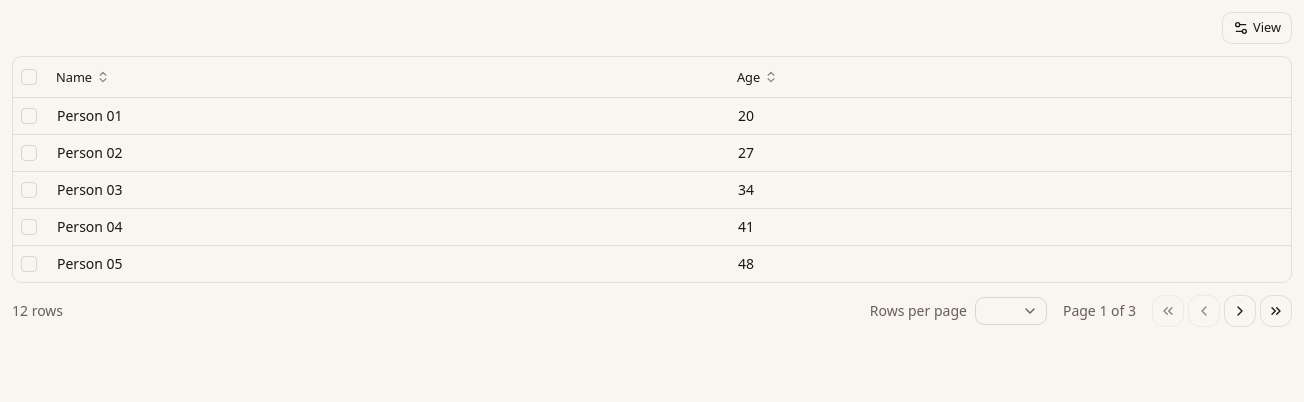
Test: DataTable › shows a bulk actions bar when rows are selected
This screenshot has width=1304, height=402.
Click the checkbox named "Select row" next to "Person 01". click: (29, 116)
box: [21, 108, 37, 124]
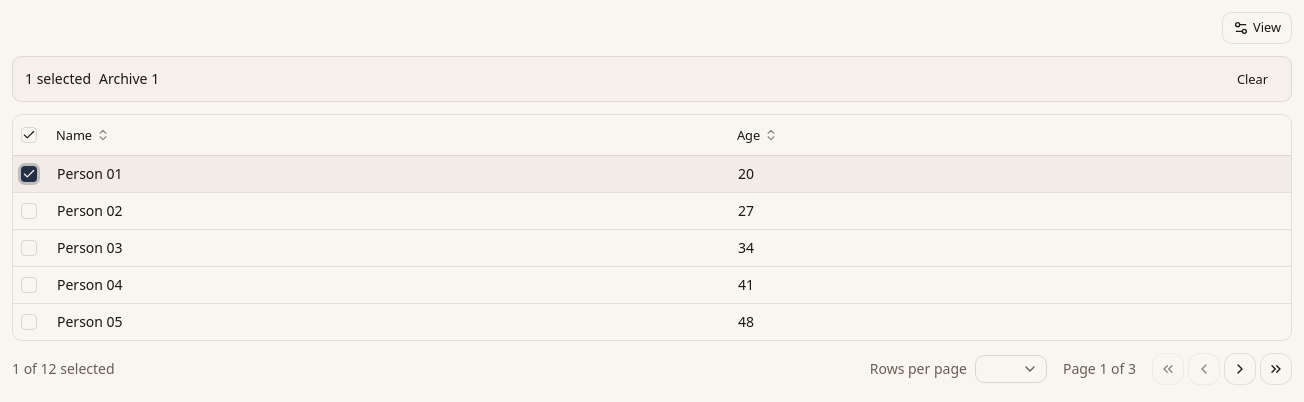
Click the checkbox named "Select row" next to "Person 02". click: (29, 210)
box: [21, 202, 37, 218]
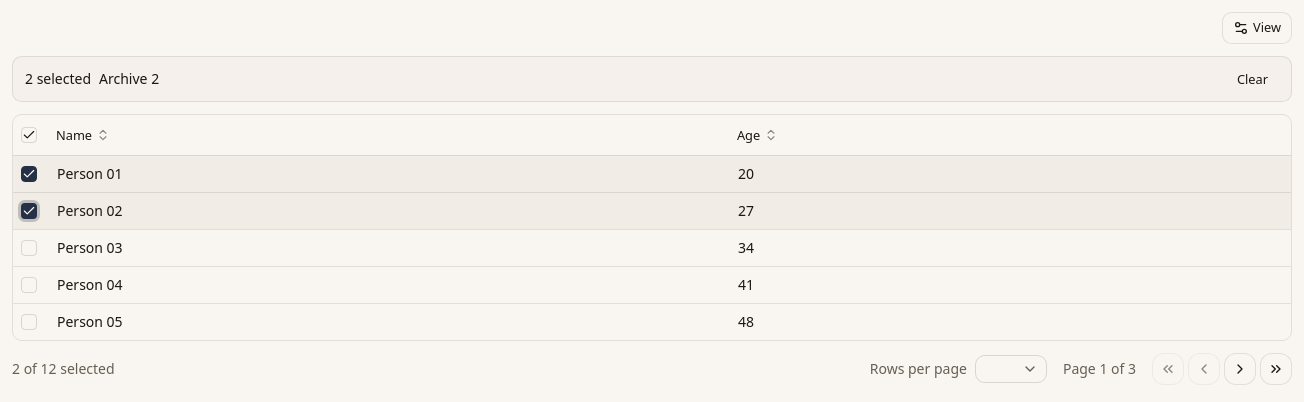
Check: the button "Archive 2" is shown, box [99, 69, 159, 89]
